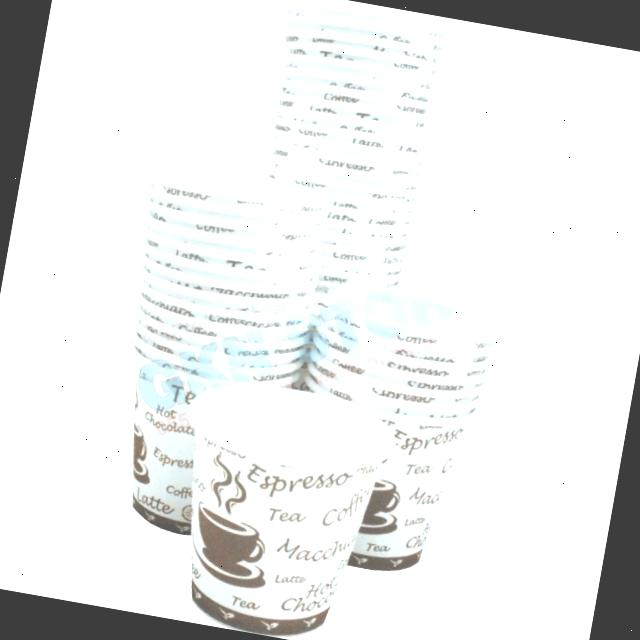trash: (154, 390, 396, 640)
